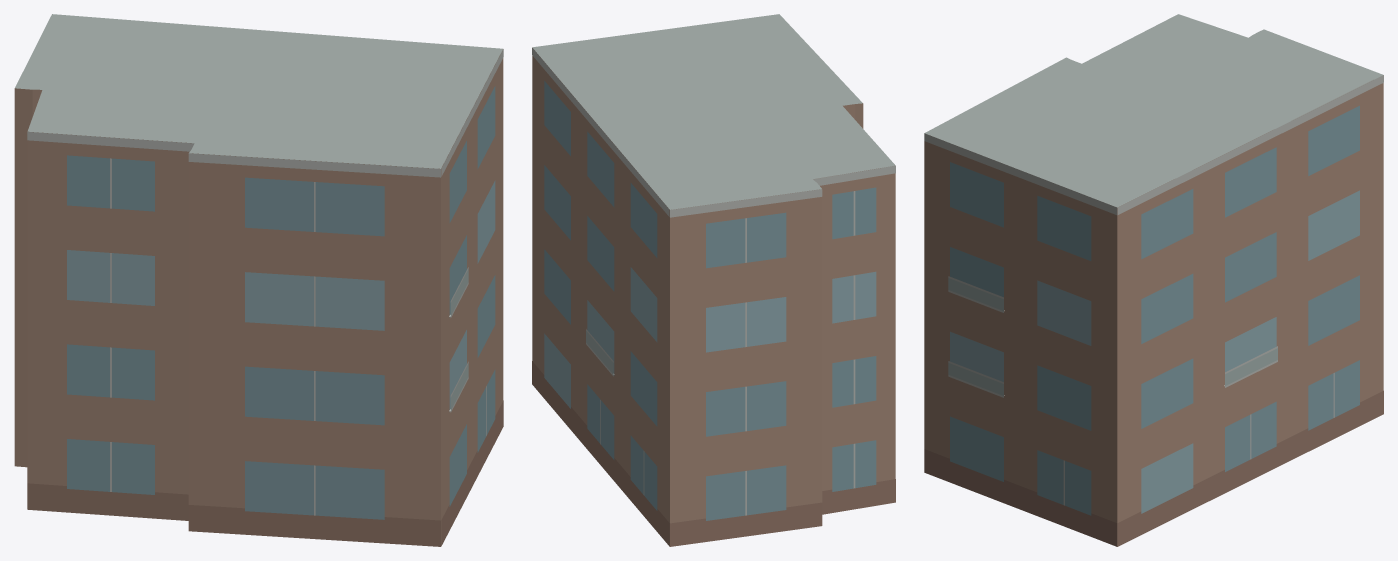
Rendered from survey-upis-32852814.glb.
The picture shows the model from 3 angles, left to right: view 1: azimuth 30°, elevation 25°; view 2: azimuth 150°, elevation 25°; view 3: azimuth 270°, elevation 25°; orthographic projection. The views are drawn at different scales.
Parts seen in each view (by area): view 1: survey-upis-32852814.tmp; view 2: survey-upis-32852814.tmp; view 3: survey-upis-32852814.tmp.
Part boxes in pixels (x1,y1,x2,y2): survey-upis-32852814.tmp: (14,14,503,546); survey-upis-32852814.tmp: (532,14,895,546); survey-upis-32852814.tmp: (924,14,1383,546).
Size of the model in its own units: 12.98 by 10.6 by 13.01.
